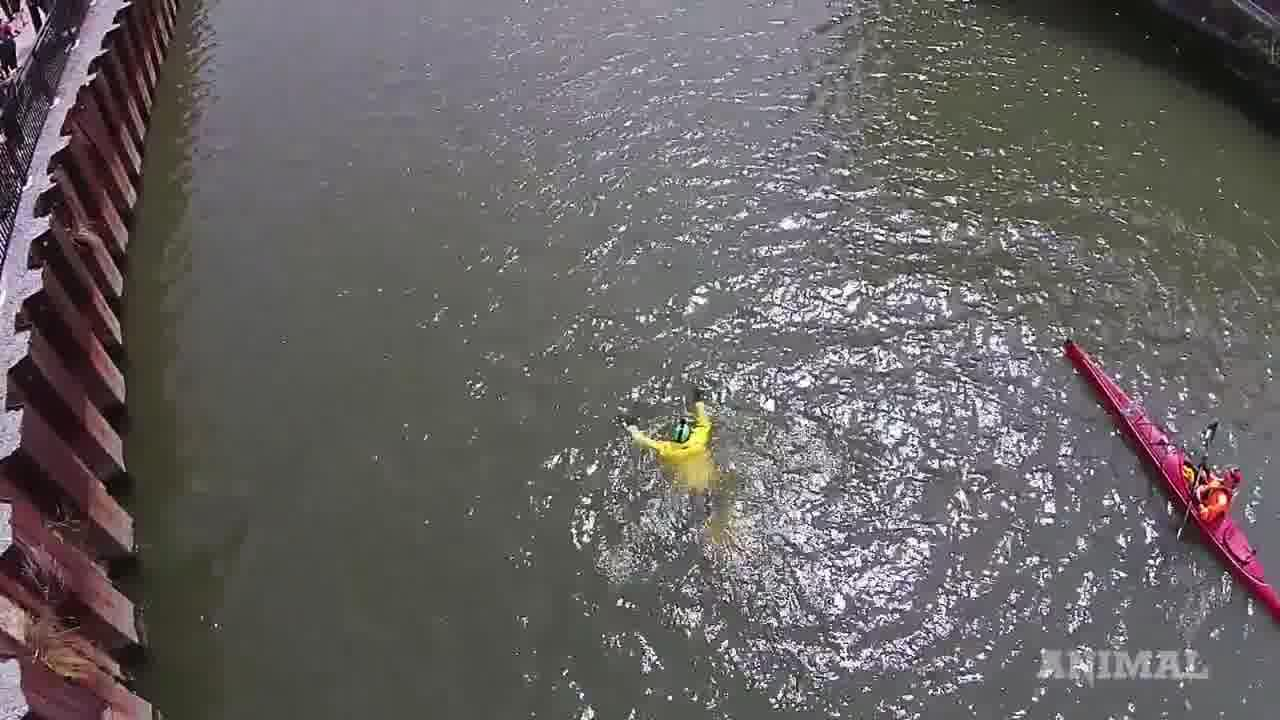human: (643, 388, 742, 485)
